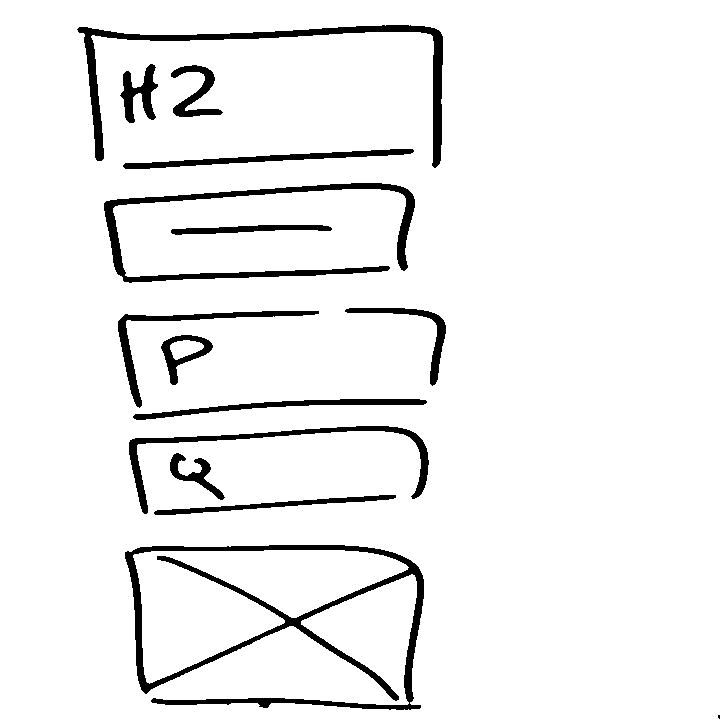button: (98, 177, 430, 286)
heading2: (73, 15, 452, 172)
paragraph: (112, 303, 460, 418)
picture: (119, 540, 434, 716)
search bar: (125, 422, 433, 526)
